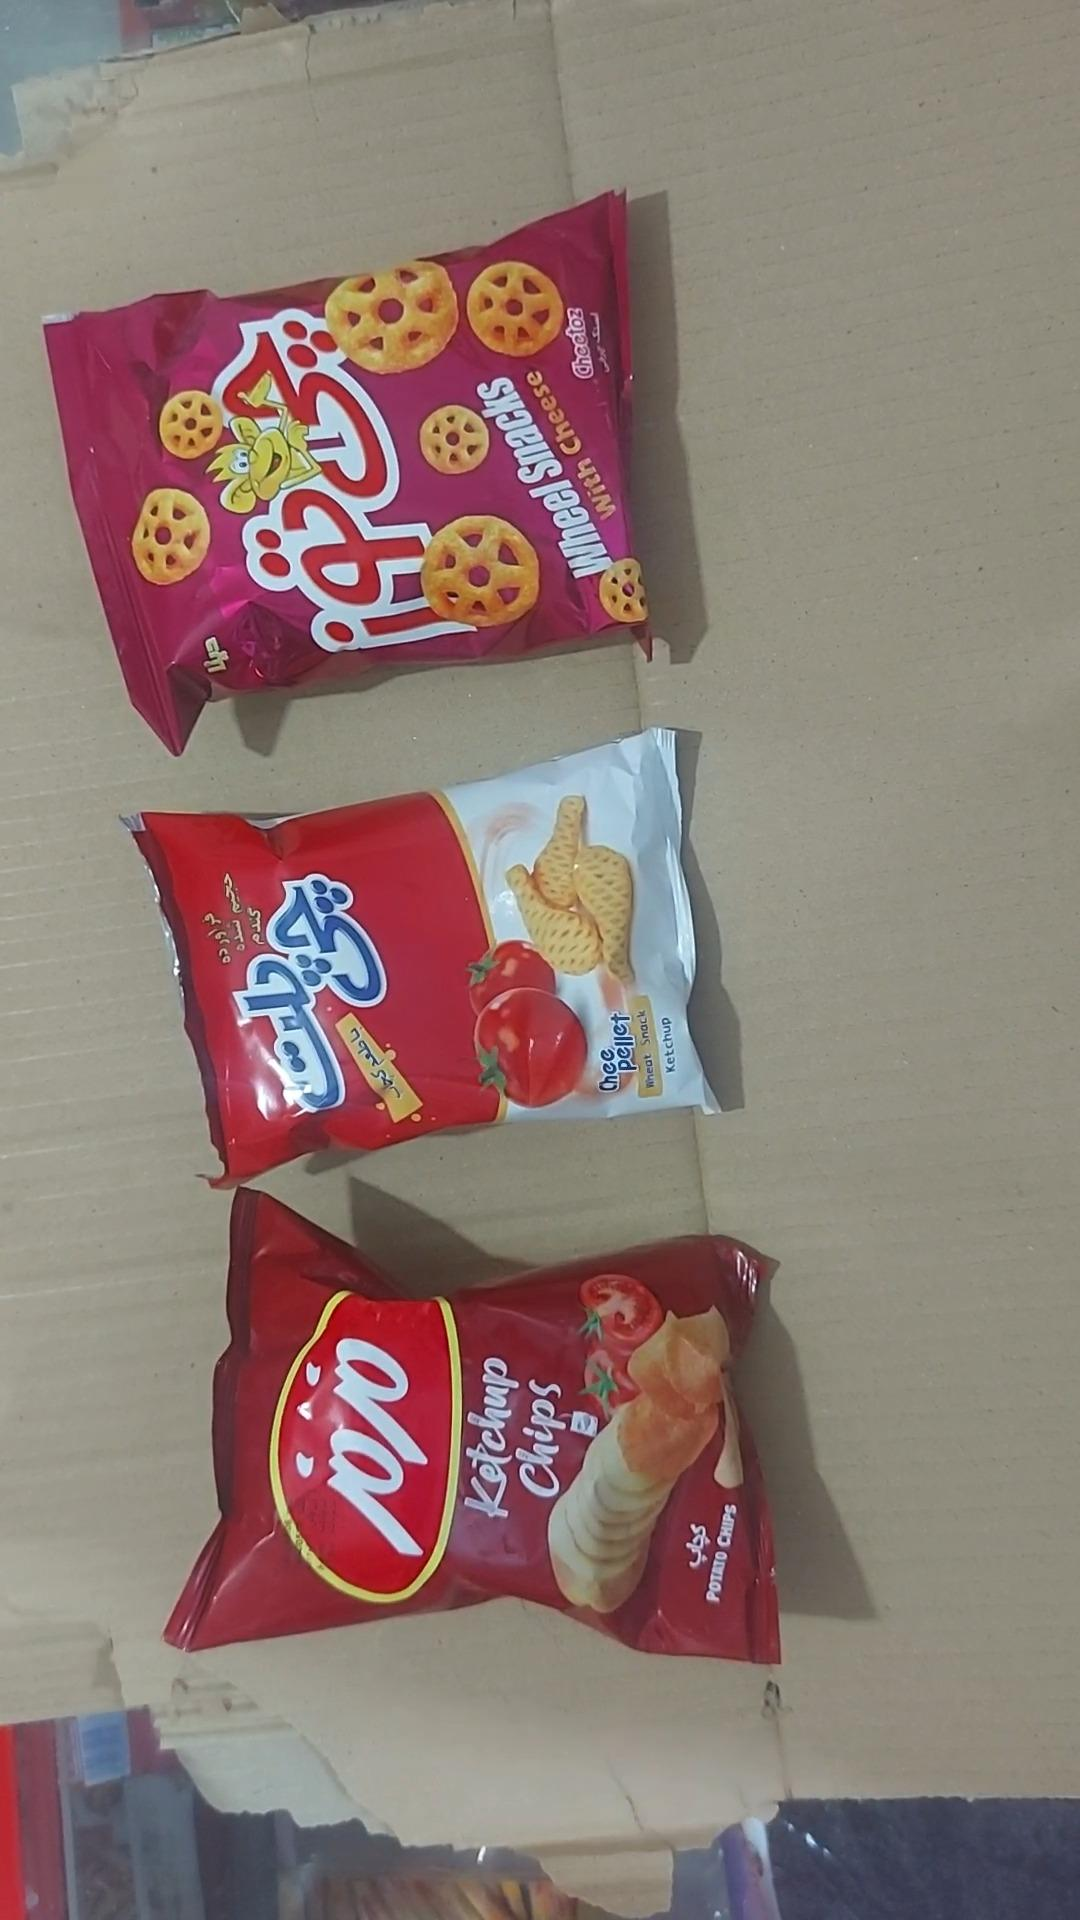Chee pellet ketchup: (119, 729, 717, 1189)
Cheetoz wheelsnack: (41, 191, 651, 760)
Maz Maz ketchup chips: (164, 1189, 783, 1668)
